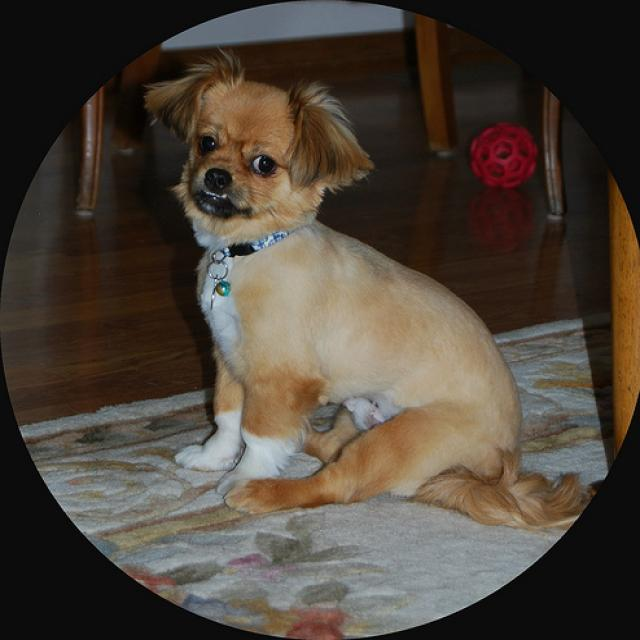dog-saint_bernard: (140, 64, 592, 536)
